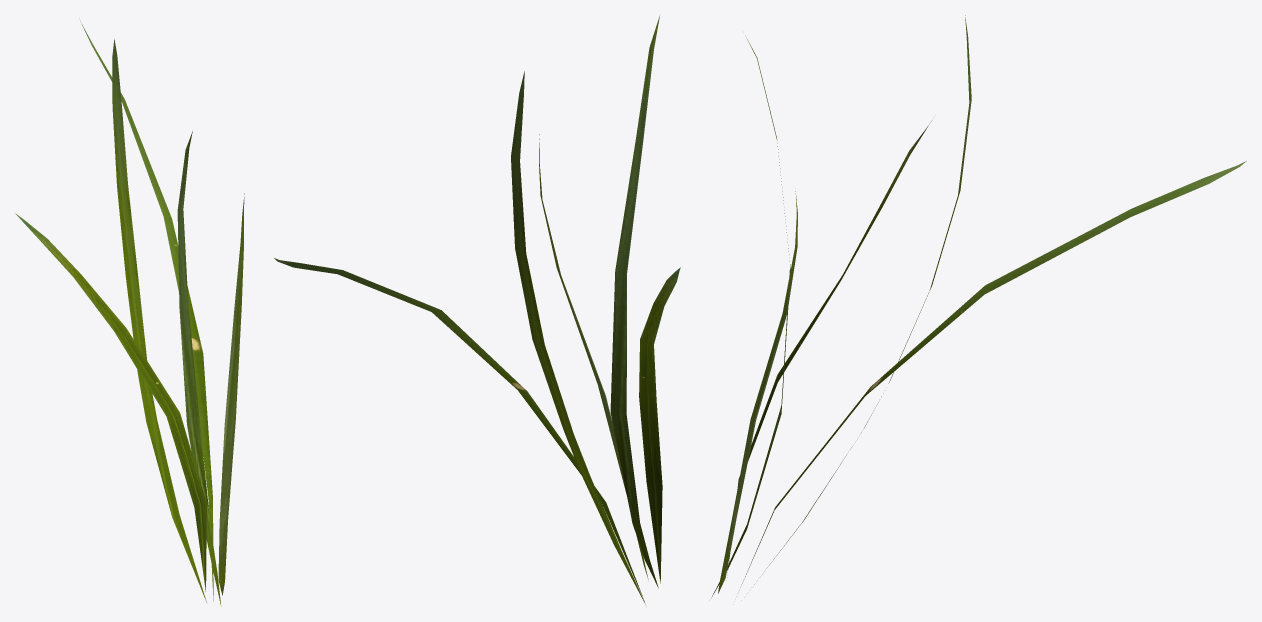
File: Detailed Grass 06 Variant 1.fbx
3 renders of one model, left to right at view 1: azimuth 30°, elevation 25°; view 2: azimuth 150°, elevation 25°; view 3: azimuth 270°, elevation 25°, orthographic. The views are drawn at different scales.
Visible parts, largest first — view 1: Grass_02_LOD0; view 2: Grass_02_LOD0; view 3: Grass_02_LOD0.
Part boxes in pixels (left/top/right/bottom): Grass_02_LOD0: left=15, top=20, right=244, bottom=606; Grass_02_LOD0: left=274, top=15, right=680, bottom=604; Grass_02_LOD0: left=711, top=15, right=1246, bottom=597.
Size of what is drawn, in the model's own units: 44.25 by 108 by 89.03.
1 material, 1 textured.
